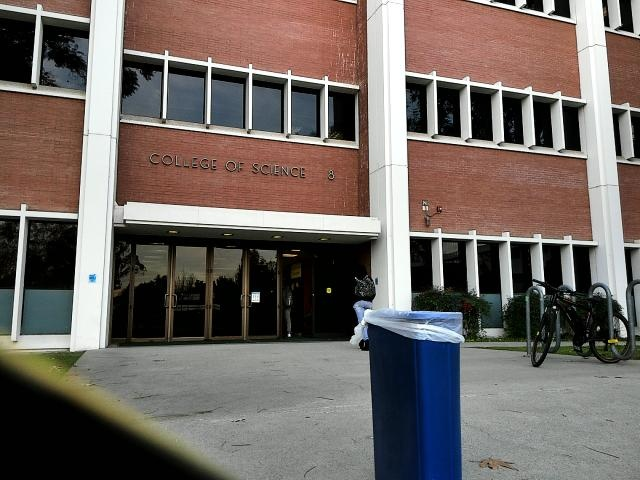trashcan_open: (357, 304, 483, 480)
